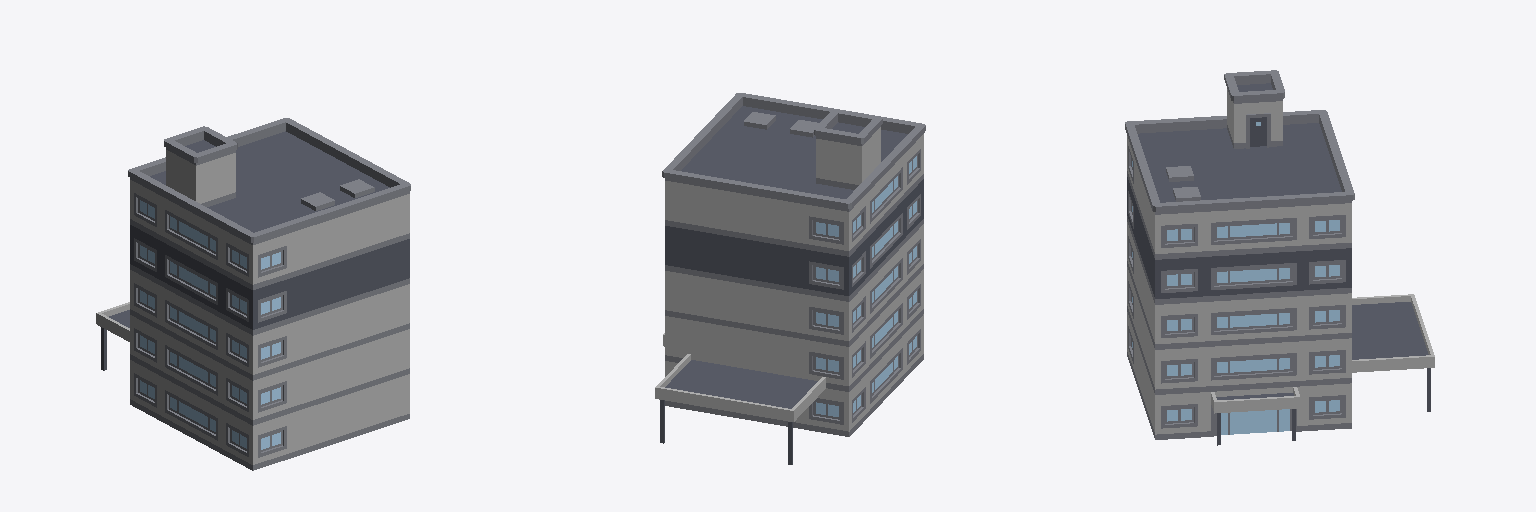
Rendered from large_buildingG.004.obj.
3 views of the same model, side by side, from view 1: azimuth 30°, elevation 25°; view 2: azimuth 150°, elevation 25°; view 3: azimuth 270°, elevation 25° (orthographic).
Parts seen in each view (by area): view 1: large_buildingG.003; view 2: large_buildingG.003; view 3: large_buildingG.003.
Part boxes in pixels (x1,y1,x2,y2): large_buildingG.003: (96, 118, 410, 470); large_buildingG.003: (655, 93, 925, 464); large_buildingG.003: (1125, 70, 1434, 445).
Size of the model in its own units: 28.91 by 36.52 by 36.71.